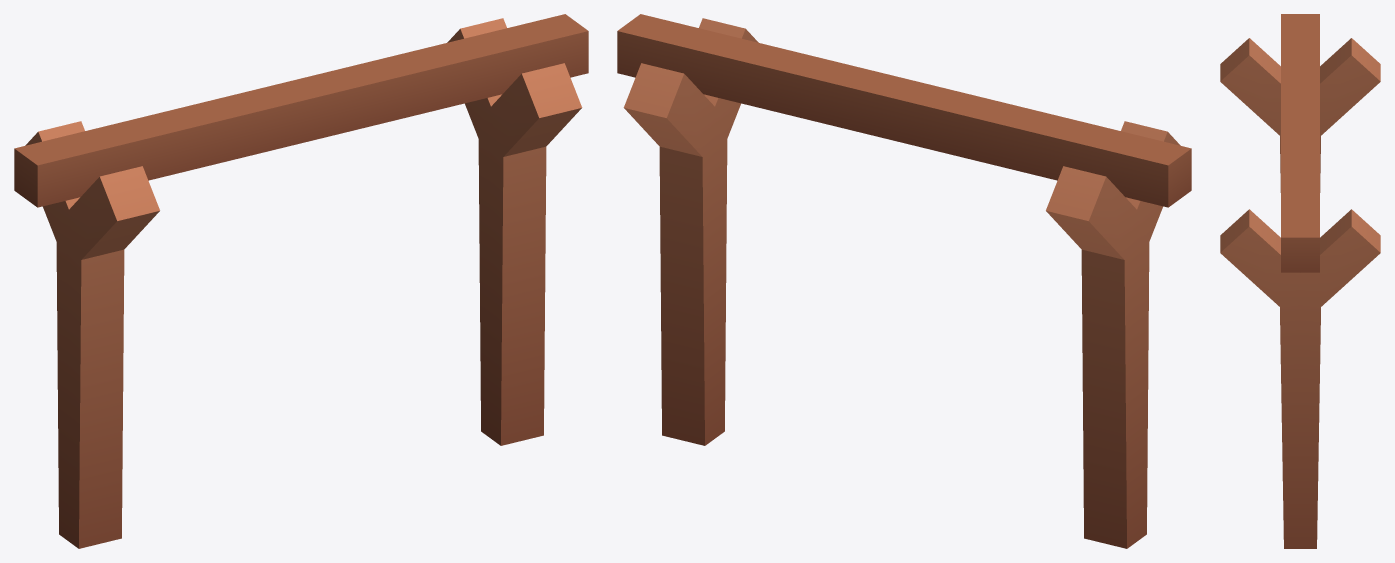
File: KS_campfire-stand.glb
3 renders of one model, left to right at view 1: azimuth 30°, elevation 25°; view 2: azimuth 150°, elevation 25°; view 3: azimuth 270°, elevation 25°, orthographic. The views are drawn at different scales.
Parts seen in each view (by area): view 1: campfire-stand; view 2: campfire-stand; view 3: campfire-stand.
Boxes of the visible parts, x1=… form: campfire-stand: x1=14, y1=14, x2=588, y2=548; campfire-stand: x1=617, y1=14, x2=1191, y2=548; campfire-stand: x1=1220, y1=14, x2=1380, y2=548.
Size of the model in its own units: 0.41 by 0.281 by 0.1244.
